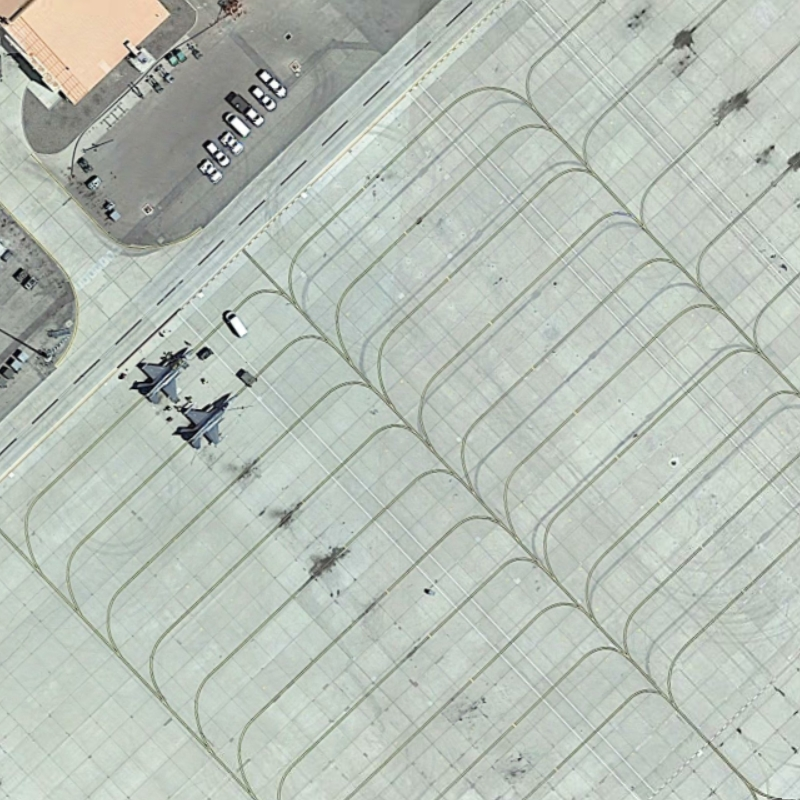A5: (128, 340, 198, 411), (171, 387, 237, 452)
